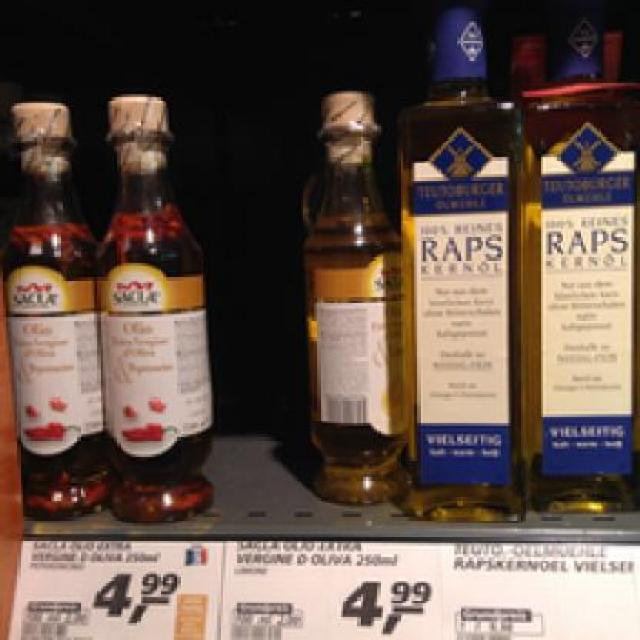Oil: (394, 11, 520, 520), (517, 17, 637, 510), (86, 97, 214, 514), (286, 89, 406, 498), (0, 92, 103, 514)
